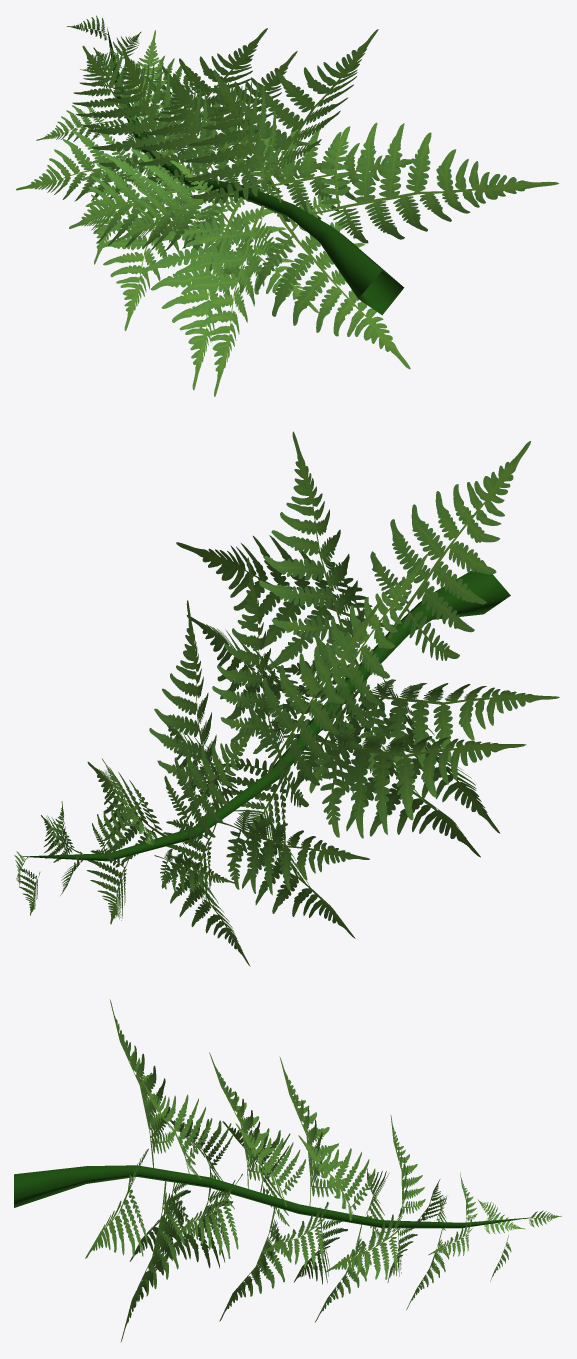
Rendered from Plante_B.FBX.
3 views of the same model, one above another, from view 1: azimuth 30°, elevation 25°; view 2: azimuth 150°, elevation 25°; view 3: azimuth 270°, elevation 25° (orthographic). The views are drawn at different scales.
Parts seen in each view (by area): view 1: leaves; view 2: leaves; view 3: leaves.
Part boxes in pixels (<box>): leaves: <box>16,15,558,396</box>; leaves: <box>14,431,559,966</box>; leaves: <box>14,999,561,1342</box>.
Size of the model in its own units: 93.18 by 79.87 by 145.
